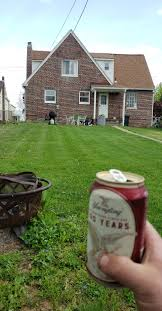can: (83, 166, 149, 290)
